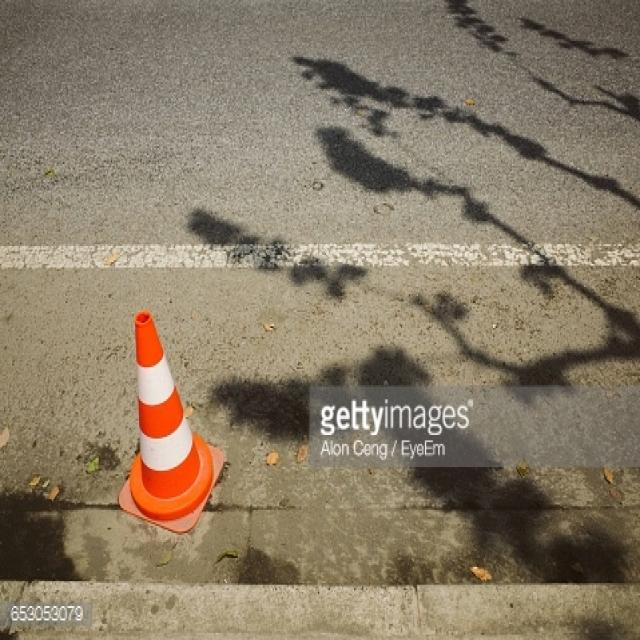cone: (85, 279, 239, 546)
